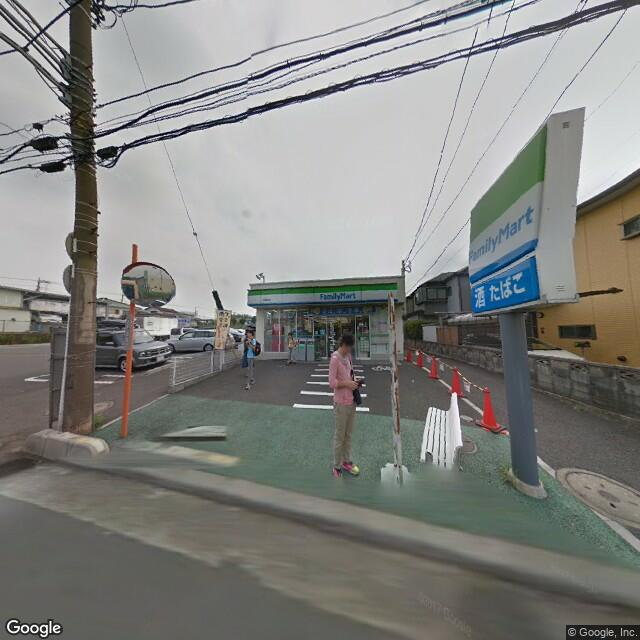family_mart: (468, 121, 552, 284), (246, 279, 399, 306)
